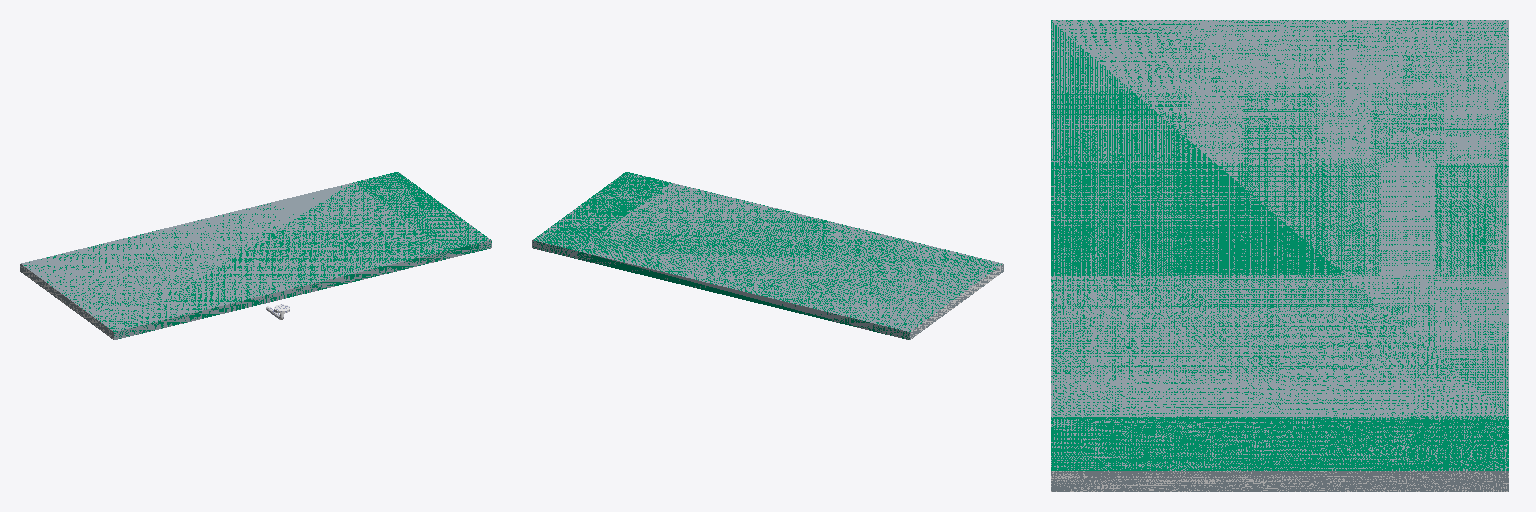
robot.urdf — right-pull-door:
<?xml version="1.0" ?>
<robot name="right-pull-door">
	<link name="base"/>
	<link name="link_0">
		<visual name="out-frame">
			<origin xyz="0 0 0"/>
			<geometry>
				<mesh filename="texture_dae/frame.dae" scale="0.8200447754284704 0.8200447754284704 0.8200447754284704"/>
			</geometry>
		</visual>
		<collision>
			<origin xyz="0 0 0"/>
			<geometry>
				<mesh filename="texture_dae/frame.dae" scale="0.8200447754284704 0.8200447754284704 0.8200447754284704"/>
			</geometry>
		</collision>
	</link>
	<joint name="joint_0" type="fixed">
		<origin rpy="1.570796326794897 0 -1.570796326794897" xyz="0 0 0"/>
		<child link="link_0"/>
		<parent link="base"/>
	</joint>
	<link name="link_1">
		<visual name="surf-board">
			<origin xyz="0.3750620634977645 -0.8634989761718179 0"/>
			<geometry>
				<mesh filename="texture_dae/board.dae" scale="0.8200447754284704 0.8200447754284704 0.8200447754284704"/>
			</geometry>
		</visual>
		<collision>
			<origin xyz="0.3750620634977645 -0.8634989761718179 0"/>
			<geometry>
				<mesh filename="texture_dae/board.dae" scale="0.8200447754284704 0.8200447754284704 0.8200447754284704"/>
			</geometry>
		</collision>
	</link>
	<joint name="joint_1" type="revolute">
		<origin xyz="-0.3750620634977645 0.8634989761718179 0"/>
		<axis xyz="0 -1 0"/>
		<child link="link_1"/>
		<parent link="link_0"/>
		<limit lower="0" upper="1.5079644737231006"/>
	</joint>
	<link name="link_2">
		<visual name="handle">
			<origin xyz="0 0 0"/>
			<geometry>
				<mesh filename="texture_dae/9960003.dae" scale="1.0294772528582206 1.0294772528582206 1.0294772528582206"/>
			</geometry>
		</visual>
		<collision>
			<origin xyz="0 0 0"/>
			<geometry>
				<mesh filename="texture_dae/9960003.dae" scale="1.0294772528582206 1.0294772528582206 1.0294772528582206"/>
			</geometry>
		</collision>
	</link>
	<joint name="joint_2" type="revolute">
		<origin xyz="0.6698489351830481 -0.9444402274483152 0.04279544730454047"/>
		<child link="link_2"/>
		<parent link="link_1"/>
		<axis xyz="0 0 1"/>
		<limit lower="0" upper="1.5079644737231006"/>
	</joint>
</robot>

--- Facts derived from the render (not from the file) ---
The picture shows the robot from 3 angles, left to right: view 1: azimuth 30°, elevation 25°; view 2: azimuth 150°, elevation 25°; view 3: azimuth 270°, elevation 25°; orthographic projection.
Robot: right-pull-door — 4 links, 3 joints (2 revolute, 1 fixed); root link base; default pose: all joints at 0.
Visible links, largest first — view 1: link_1; view 2: link_1; view 3: link_1.
Boxes of the visible links, x1,y1,x2,y2 form: link_1: (20,172,491,339); link_1: (532,172,1003,339); link_1: (1051,20,1508,491).
Bounding box of the posed robot: 1.74 × 0.7498 × 0.1748 m (x, y, z).
2 mesh visuals loaded from 3 distinct referenced files (2 Collada DAE); not drawn: 1 (reference not matched to a file when rendering).
